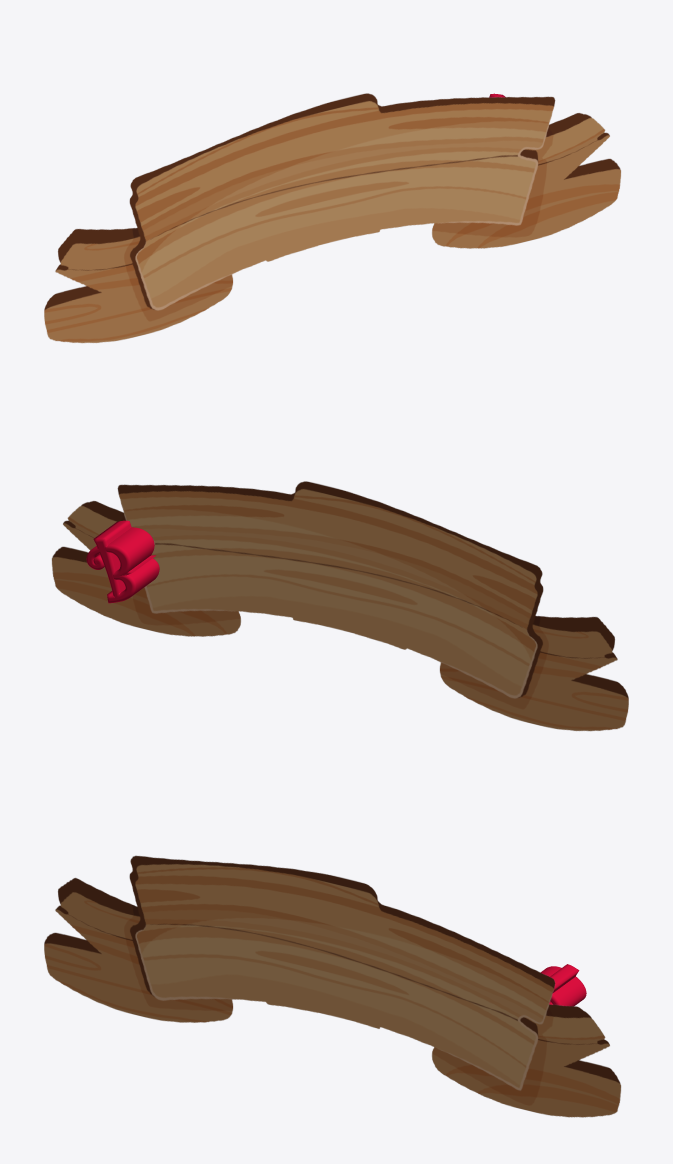
The model's file is 3inf.gltf.
The picture shows the model from 3 angles, top to bottom: view 1: azimuth 30°, elevation 25°; view 2: azimuth 150°, elevation 25°; view 3: azimuth 330°, elevation 25°; orthographic projection.
Parts seen in each view (by area): view 1: Text.002; view 2: Text.002; view 3: Text.002.
Part boxes in pixels (x1,y1,x2,y2): Text.002: [44, 93, 621, 343]; Text.002: [51, 481, 628, 731]; Text.002: [44, 855, 621, 1117].
Size of the model in its own units: 6.52 by 1.96 by 0.6942.
2 materials, 1 textured.
